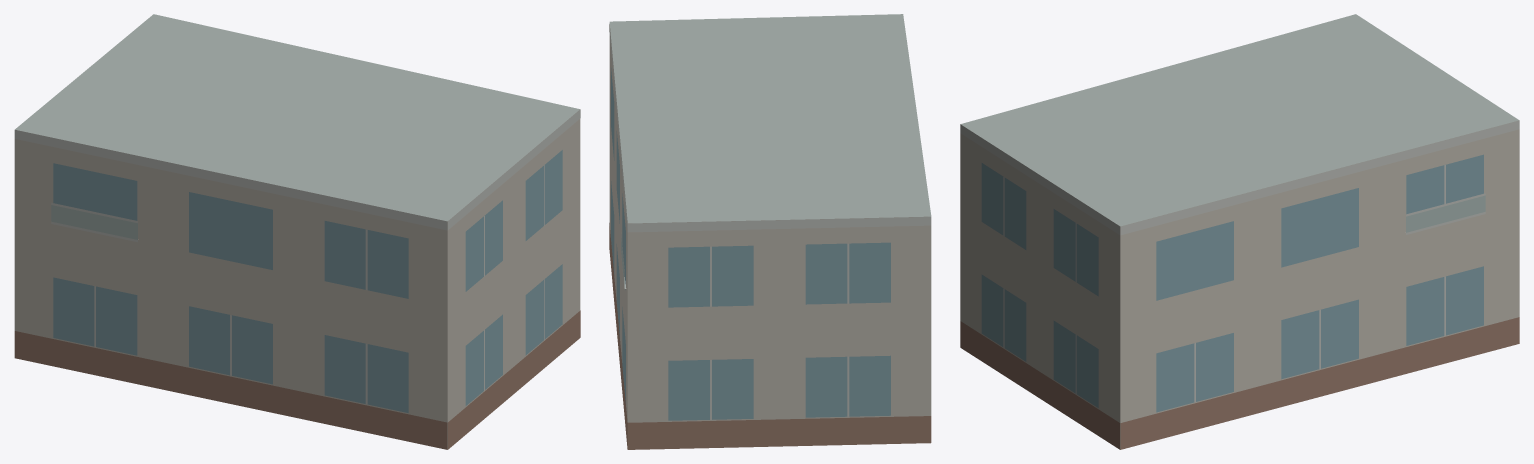
File: survey-upis-32624883.glb
3 renders of one model, left to right at view 1: azimuth 30°, elevation 25°; view 2: azimuth 150°, elevation 25°; view 3: azimuth 270°, elevation 25°, orthographic. The views are drawn at different scales.
Visible parts, largest first — view 1: survey-upis-32624883.tmp; view 2: survey-upis-32624883.tmp; view 3: survey-upis-32624883.tmp.
Boxes of the visible parts, left/top/right/bottom form: survey-upis-32624883.tmp: left=14, top=14, right=580, bottom=449; survey-upis-32624883.tmp: left=609, top=14, right=931, bottom=449; survey-upis-32624883.tmp: left=960, top=14, right=1519, bottom=449.
Size of the model in its own units: 12.45 by 6.1 by 13.85.
